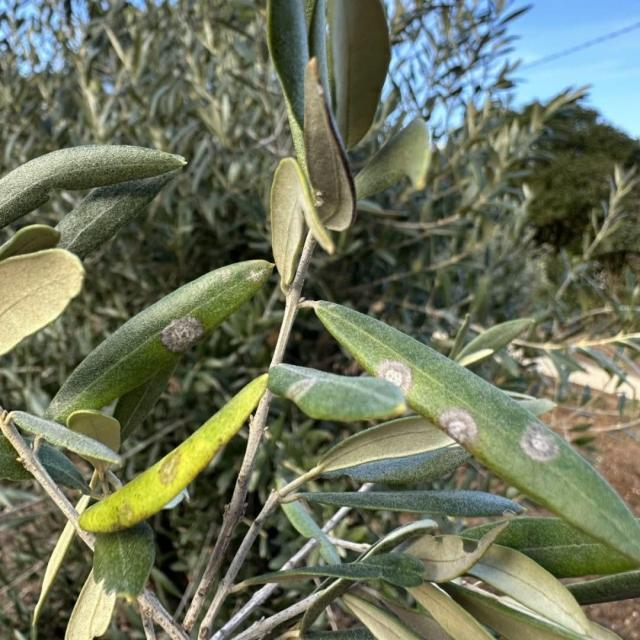Peacock Eye: (314, 301, 639, 565), (44, 260, 273, 424), (79, 374, 267, 533)
